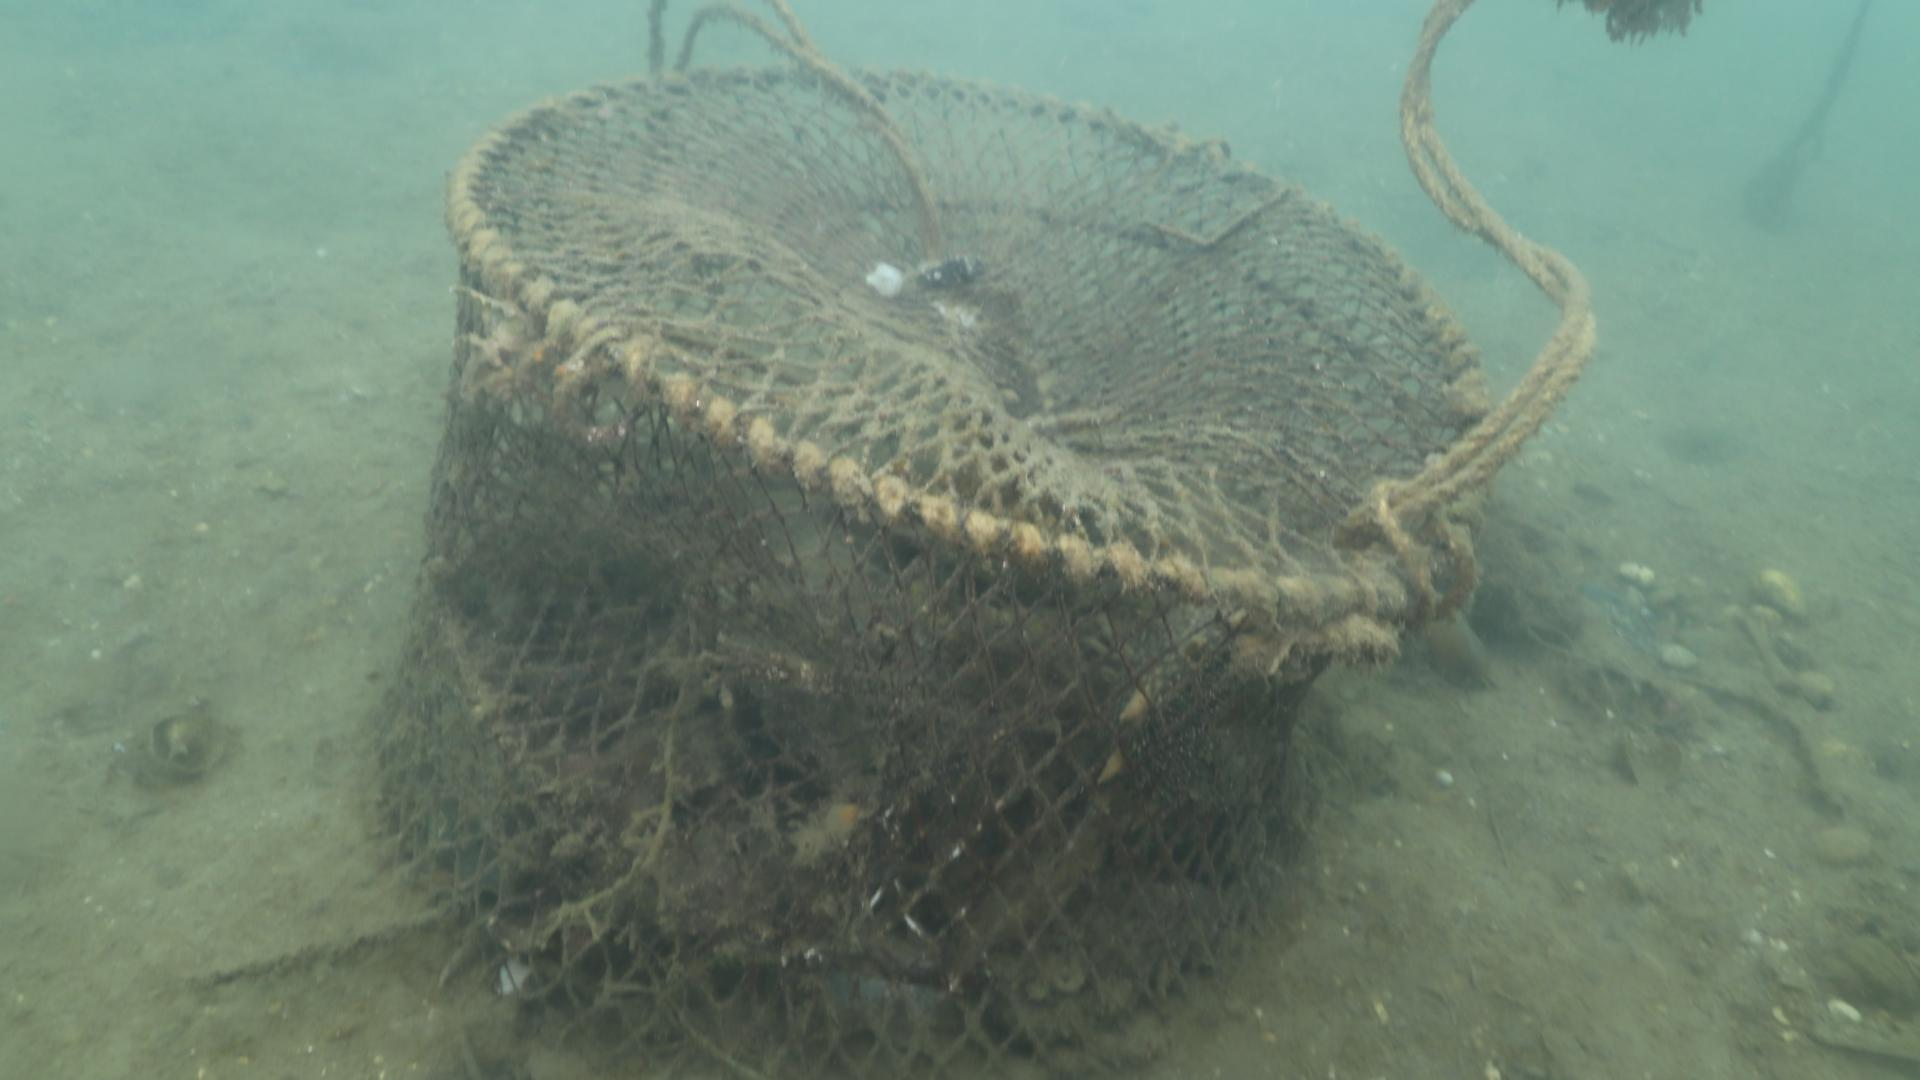bundle of ropes: (1340, 3, 1593, 541), (638, 0, 944, 256)
circular fish trap: (361, 63, 1490, 1080)
